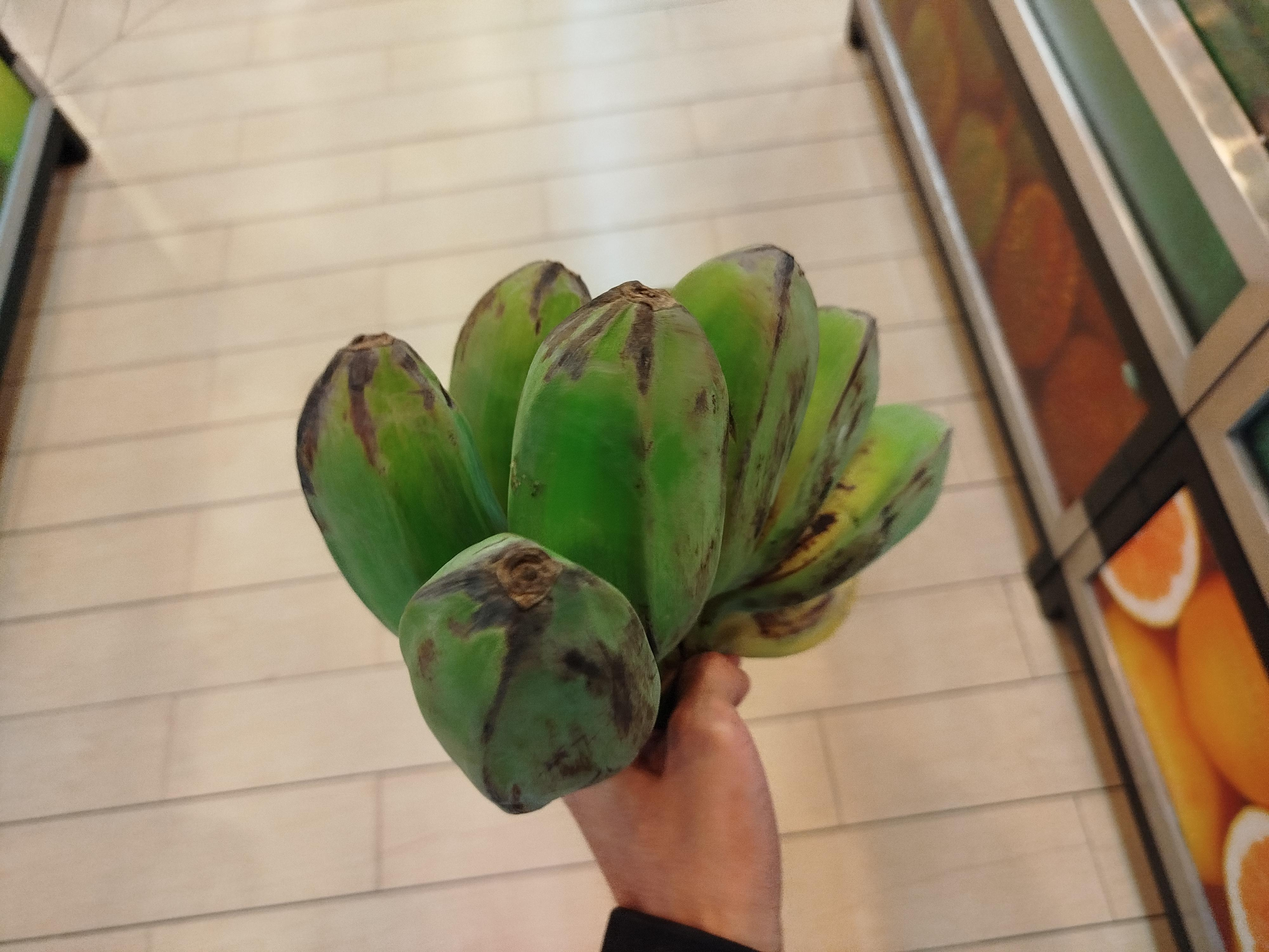underripe: (297, 244, 954, 814)
